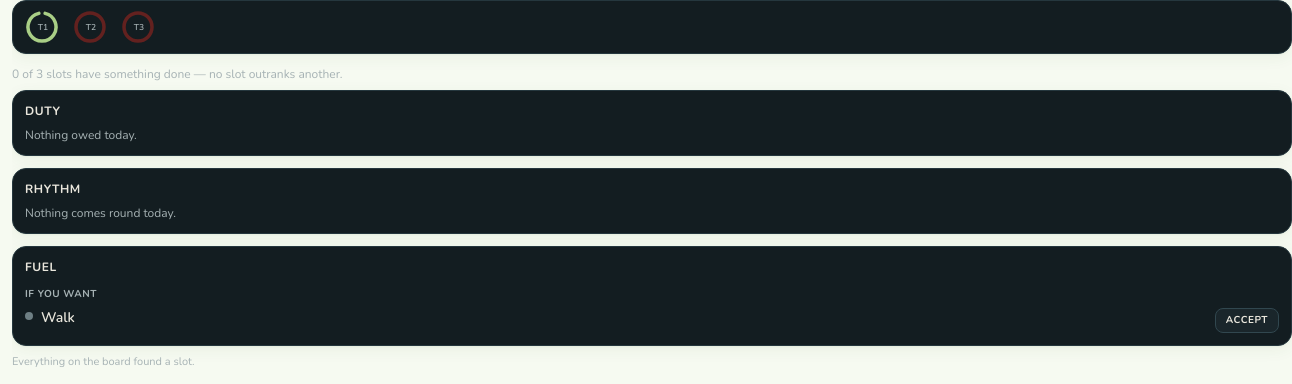
Test case: SlotBoard — carryover, candidates, browse-on-swap › pressing Accept commits the candidate through the accept verb
Click the button with test id "board-accept". click: {"x": 1247, "y": 320}
box: [1215,308,1279,333]
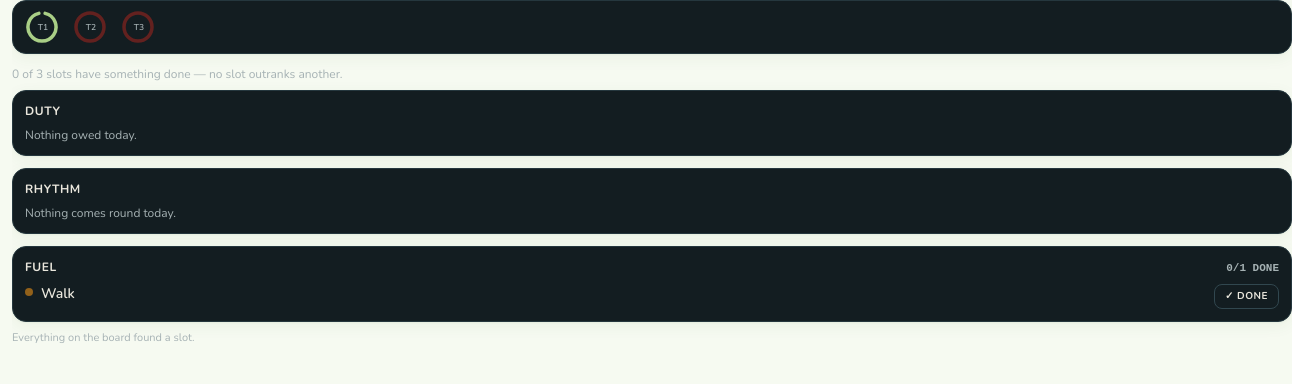
Expected: the button with test id "board-accept" is gone
Expected: the button with test id "board-complete" is shown, [1214,284,1279,309]
